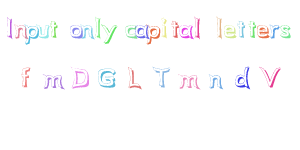D: (70, 66, 90, 89)
G: (97, 67, 116, 88)
I: (3, 15, 18, 40)
L: (126, 66, 142, 89)
T: (151, 66, 170, 88)
V: (259, 66, 281, 88)
a: (178, 23, 194, 39), (134, 24, 149, 38)
c: (123, 23, 137, 39)
d: (234, 65, 251, 90)
e: (223, 24, 236, 40), (257, 23, 269, 39)
f: (19, 66, 32, 87)
i: (160, 15, 169, 38)
l: (193, 15, 204, 39), (215, 15, 224, 40), (93, 16, 102, 40)
m: (42, 73, 65, 90), (177, 73, 200, 90)
n: (208, 72, 224, 90), (79, 22, 94, 40), (14, 24, 29, 39)
o: (68, 22, 84, 40)
p: (24, 24, 40, 46), (146, 23, 161, 45)
r: (269, 23, 279, 40)
s: (280, 23, 293, 40)
t: (48, 18, 60, 40), (236, 17, 245, 38), (248, 18, 257, 39), (170, 20, 180, 38)
u: (35, 23, 50, 40)
y: (101, 23, 118, 45)
